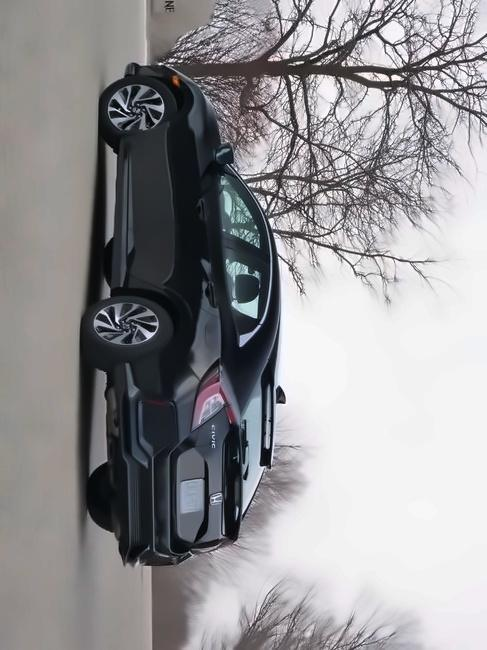Car boot: (149, 394, 258, 560)
Fender - -F-L-: (104, 85, 236, 149)
Fender - -R-L-: (99, 271, 280, 385)
Front bumper: (116, 58, 186, 90)
Passenger-s door - -F-L-: (107, 132, 284, 245)
Passenger-s door - -R-L-: (108, 227, 285, 339)
Rear bumper: (107, 354, 185, 574)
Rear light - -L-: (190, 354, 251, 432)
Side bumper - -L-: (101, 129, 167, 300)
Side mirror - -R-: (205, 142, 236, 177)
